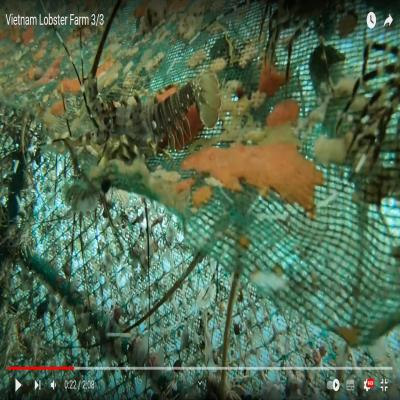lobster: (86, 83, 198, 163)
